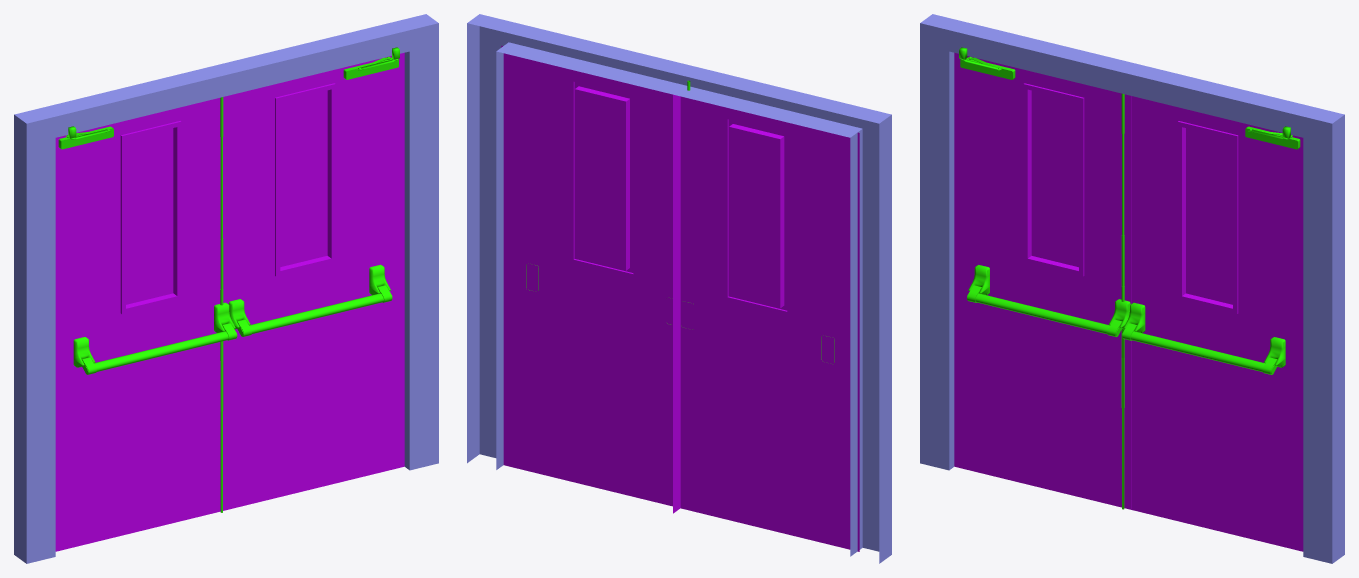
File: SM_Hospital_Door_Closed.FBX
The picture shows the model from 3 angles, left to right: view 1: azimuth 30°, elevation 25°; view 2: azimuth 150°, elevation 25°; view 3: azimuth 330°, elevation 25°; orthographic projection.
Parts seen in each view (by area): view 1: Hospital_Door_Closed, Hospital_Door_Closed_frame, Hospital_Door_Closed_metal; view 2: Hospital_Door_Closed, Hospital_Door_Closed_frame; view 3: Hospital_Door_Closed, Hospital_Door_Closed_frame, Hospital_Door_Closed_metal.
Boxes of the visible parts, x1,y1,x2,y2 form: Hospital_Door_Closed: (55,52,404,551); Hospital_Door_Closed_frame: (14,14,438,563); Hospital_Door_Closed_metal: (58,47,399,512); Hospital_Door_Closed: (501,45,859,551); Hospital_Door_Closed_frame: (467,14,891,563); Hospital_Door_Closed: (954,52,1303,551); Hospital_Door_Closed_frame: (920,14,1344,563); Hospital_Door_Closed_metal: (959,47,1300,509).
Size of the model in its own units: 196 by 16.59 by 200.
